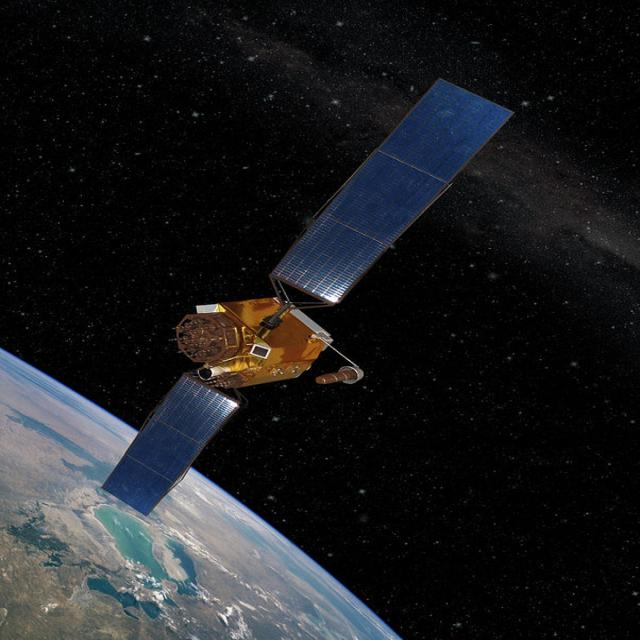satellite: (93, 70, 516, 523)
